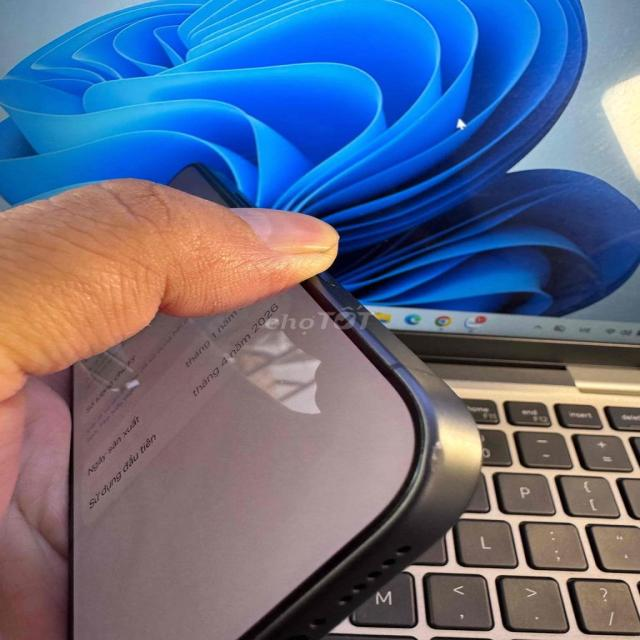physical_damage: (403, 423, 459, 478)
